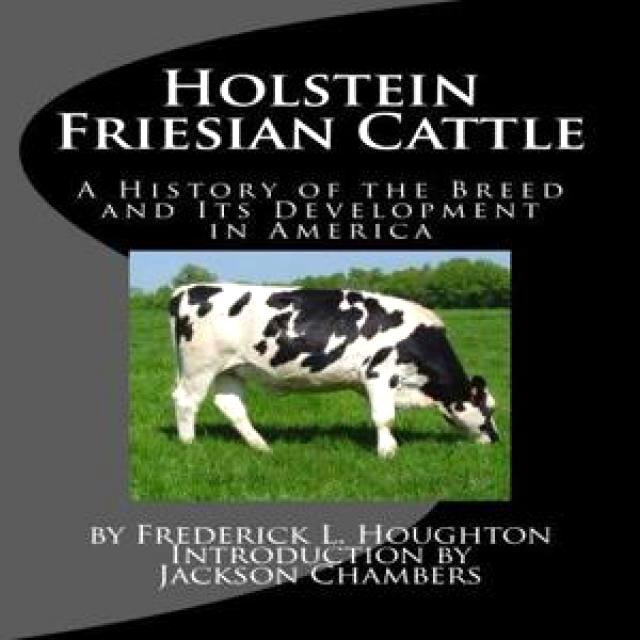COW: (170, 284, 498, 457)
